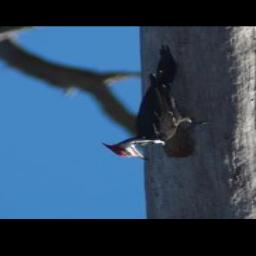Woodpecker: (101, 44, 212, 162)
